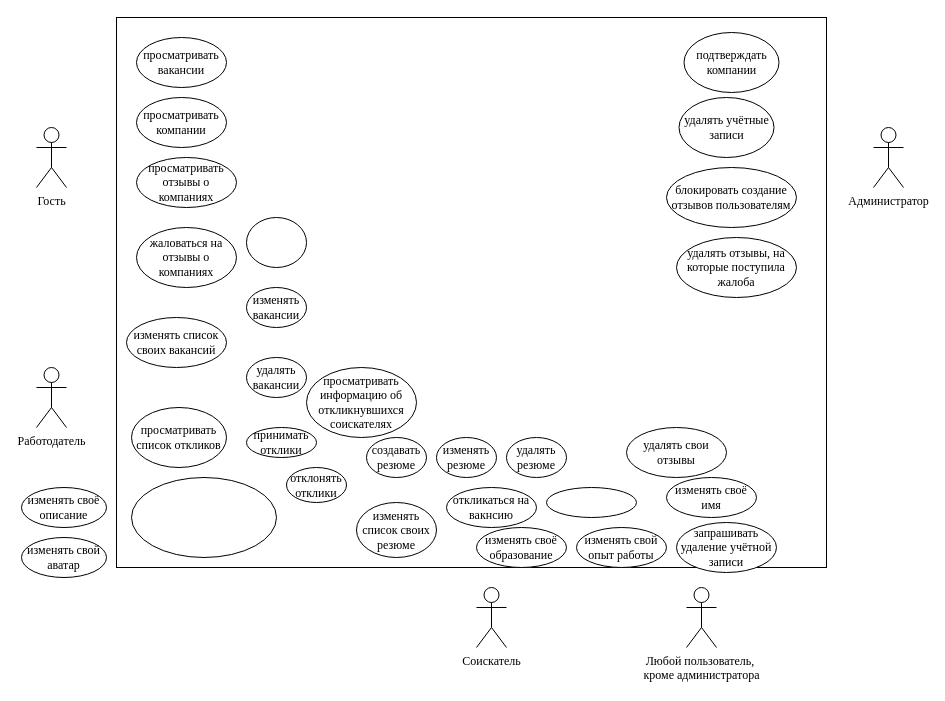
This 945x701 diagram has some shape labels left out. Each missing label, with the box of its shape:
оставлять отзывы о тех кандидатах, чей отклик работодатель принял: (130, 476, 276, 558)
отзывать отклик: (546, 486, 636, 518)
создавать вакансии: (246, 216, 306, 268)
